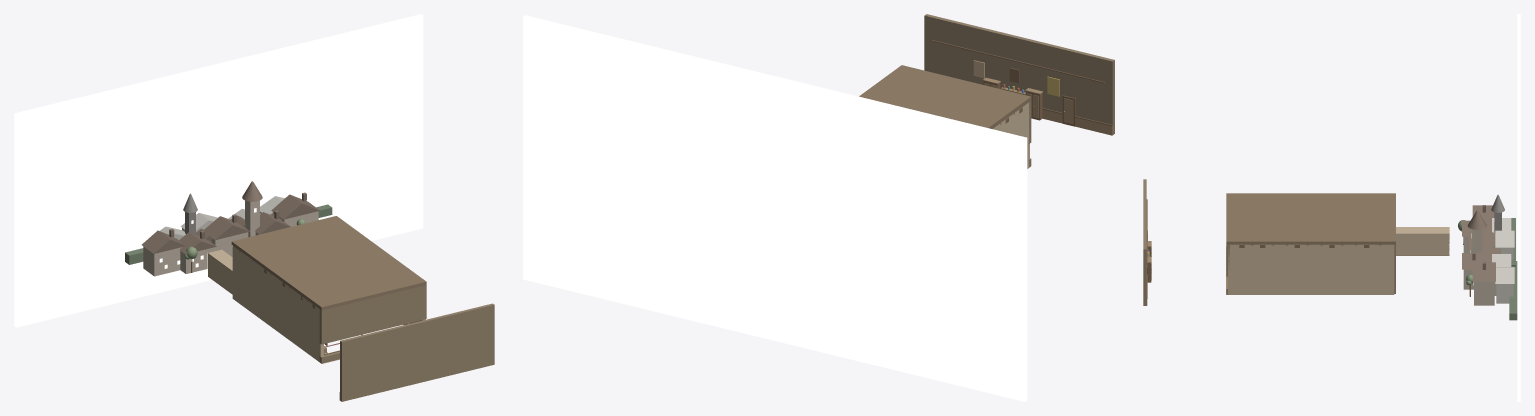
Rendered from studio.glb.
3 views of the same model, side by side, from view 1: azimuth 30°, elevation 25°; view 2: azimuth 150°, elevation 25°; view 3: azimuth 270°, elevation 25° (orthographic). The views are drawn at different scales.
Visible parts, largest first — view 1: sky, ceiling, south_backdrop, wall_l, south_band, house5, house4_roof, house2_roof, house5_roof, cor_wall_l, house1, tower (+2 smaller); view 2: sky, south_backdrop, ceiling, wall_l, south_backdrop_wains; view 3: ceiling, wall_r, sky, cor_wall_r, house4, south_backdrop, house4_roof, cor_ceil, house_hill2, house_far2_roof.
Boxes of the visible parts, left/top/right/bottom form: sky: left=14, top=14, right=423, bottom=327; ceiling: left=231, top=216, right=426, bottom=310; south_backdrop: left=340, top=303, right=494, bottom=401; wall_l: left=232, top=246, right=323, bottom=361; south_band: left=319, top=285, right=426, bottom=344; house5: left=143, top=246, right=181, bottom=276; house4_roof: left=271, top=194, right=320, bottom=219; house2_roof: left=204, top=216, right=249, bottom=240; house5_roof: left=141, top=230, right=185, bottom=253; cor_wall_l: left=208, top=254, right=232, bottom=293; house1: left=180, top=247, right=215, bottom=273; tower: left=245, top=200, right=259, bottom=237; sky: left=523, top=15, right=1027, bottom=401; south_backdrop: left=924, top=14, right=1114, bottom=134; ceiling: left=859, top=65, right=1031, bottom=128; wall_l: left=992, top=102, right=1029, bottom=168; south_backdrop_wains: left=1042, top=109, right=1112, bottom=135; ceiling: left=1226, top=193, right=1395, bottom=244; wall_r: left=1228, top=244, right=1394, bottom=294; sky: left=1517, top=14, right=1520, bottom=401; cor_wall_r: left=1396, top=234, right=1449, bottom=255; house4: left=1474, top=281, right=1494, bottom=305; south_backdrop: left=1143, top=179, right=1146, bottom=305; house4_roof: left=1472, top=262, right=1495, bottom=281; cor_ceil: left=1396, top=227, right=1449, bottom=233; house_hill2: left=1509, top=261, right=1517, bottom=320; house_far2_roof: left=1495, top=230, right=1514, bottom=247.
Bounding box in the file's own units: 64 × 32 × 54.5.
